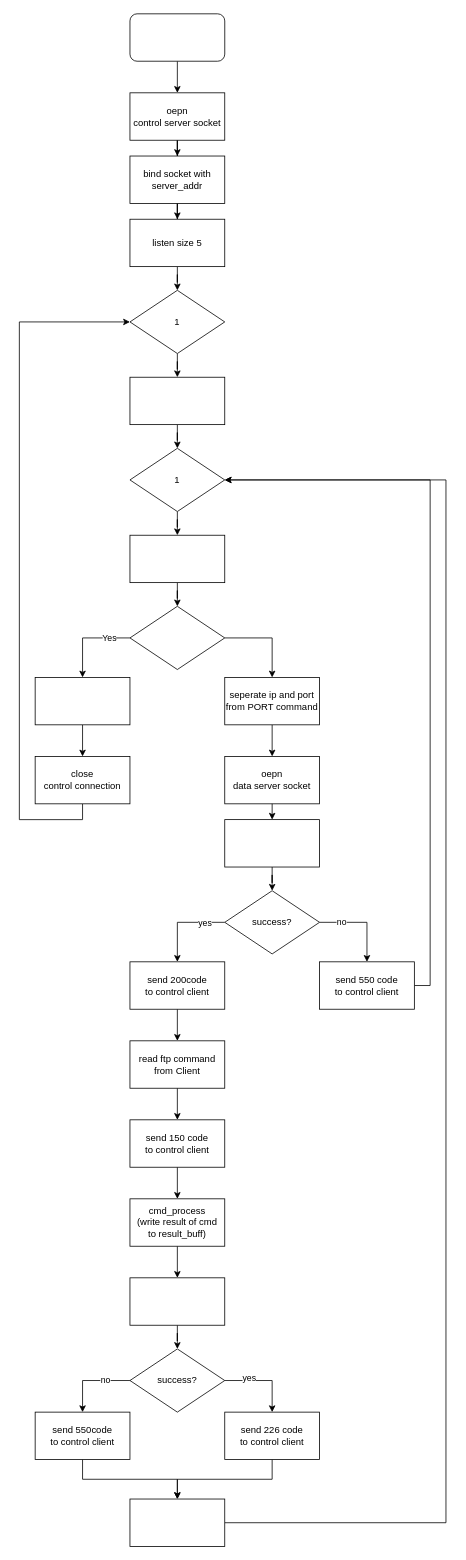
Some shapes in this 466 by 1560 pixel diagram are drawn without their labels. The box of each missing label's shape, as (x1, y1, x2, y2) in pixels:
accept control client: (129, 376, 225, 425)
close data connection: (129, 1498, 225, 1546)
connect to data server: (224, 819, 320, 867)
read string from Client: (129, 534, 225, 583)
send 221 code to control client: (34, 677, 130, 725)
send result_buff to data server: (129, 1277, 225, 1325)
start: (129, 13, 225, 61)
string == "QUIT"?: (129, 606, 225, 670)
